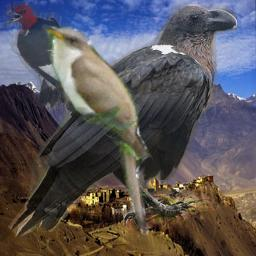Crow: (8, 4, 237, 238)
Cuckoo: (36, 20, 153, 239)
Woodpecker: (3, 0, 79, 108)
